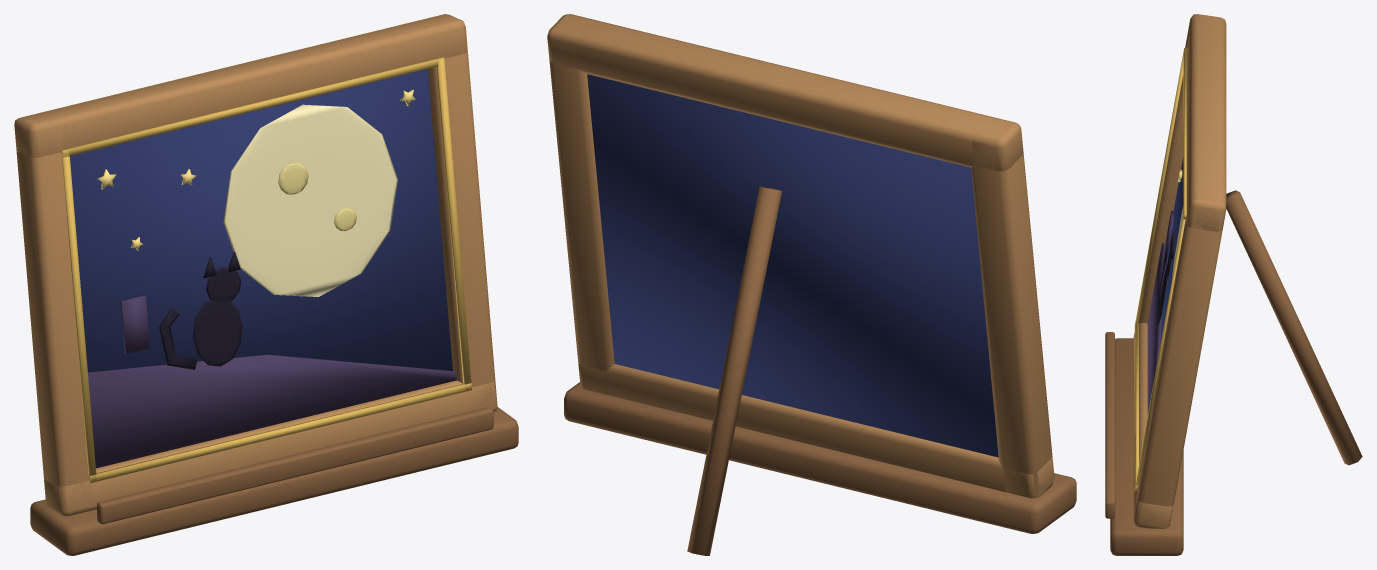
The model's file is art-moon-cat.glb.
The picture shows the model from 3 angles, left to right: view 1: azimuth 30°, elevation 25°; view 2: azimuth 150°, elevation 25°; view 3: azimuth 270°, elevation 25°; orthographic projection. The views are drawn at different scales.
Parts seen in each view (by area): view 1: art; view 2: art; view 3: art.
Boxes of the visible parts, <box> form: art: <box>14,14,518,555</box>; art: <box>547,14,1076,555</box>; art: <box>1105,14,1362,555</box>.
Bounding box in the file's own units: 0.57 × 0.4826 × 0.3151.
